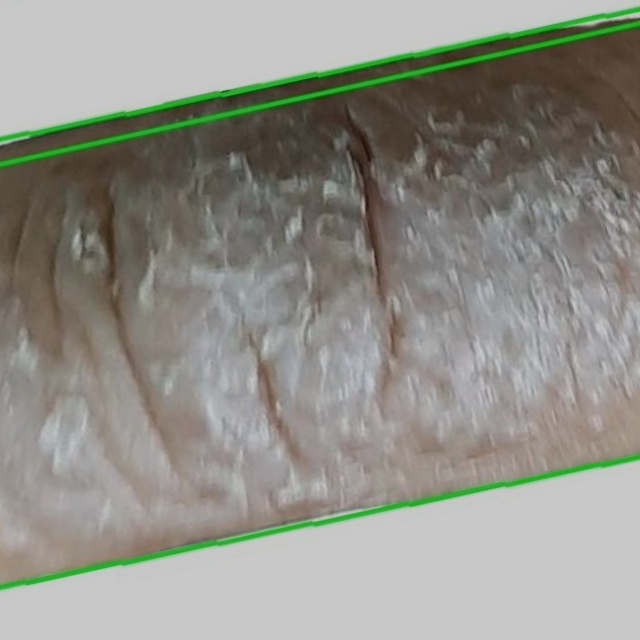Eczema: (0, 8, 639, 587)
